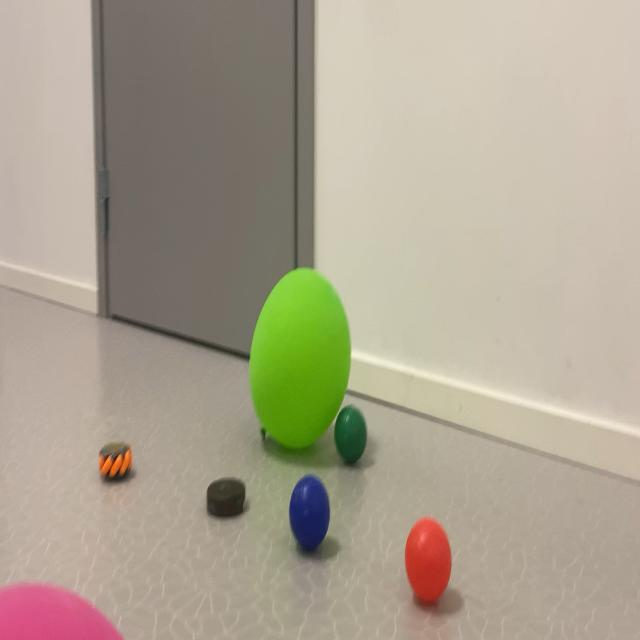7: (395, 480, 460, 640)
green ball: (284, 468, 340, 591)
red ball: (331, 387, 379, 496)
